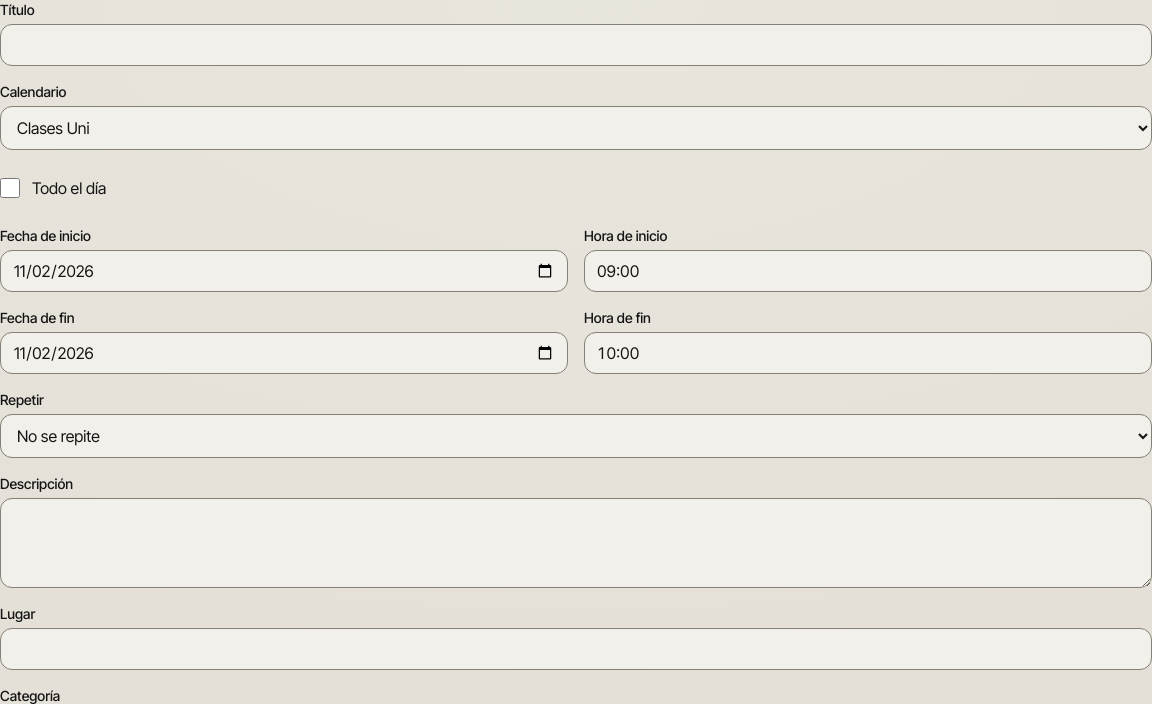
Scenario: EventForm: times (spec 008) › never moves the end past 23:59 (RF-30)
This screenshot has width=1152, height=704.
Click the dropdown labelled "Hora de inicio" at (868, 271), box [584,250,1151,292]
(page scrolled)
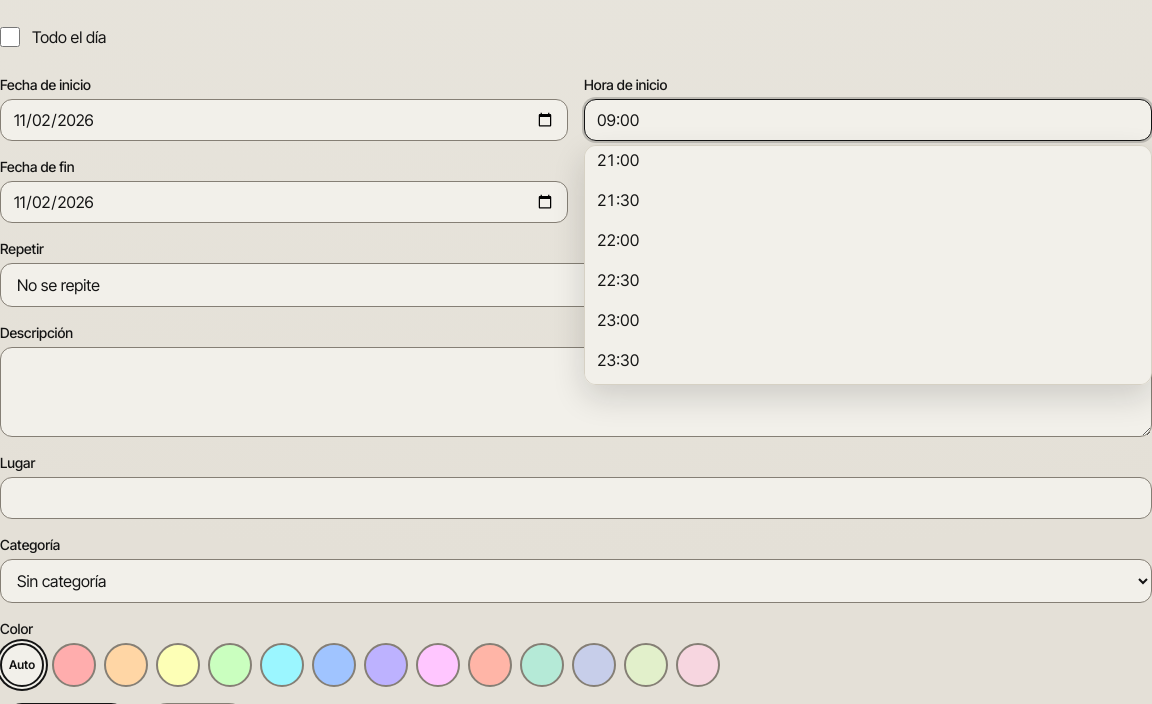
Click the option "23:30" at (618, 360), box [597,350,639,370]
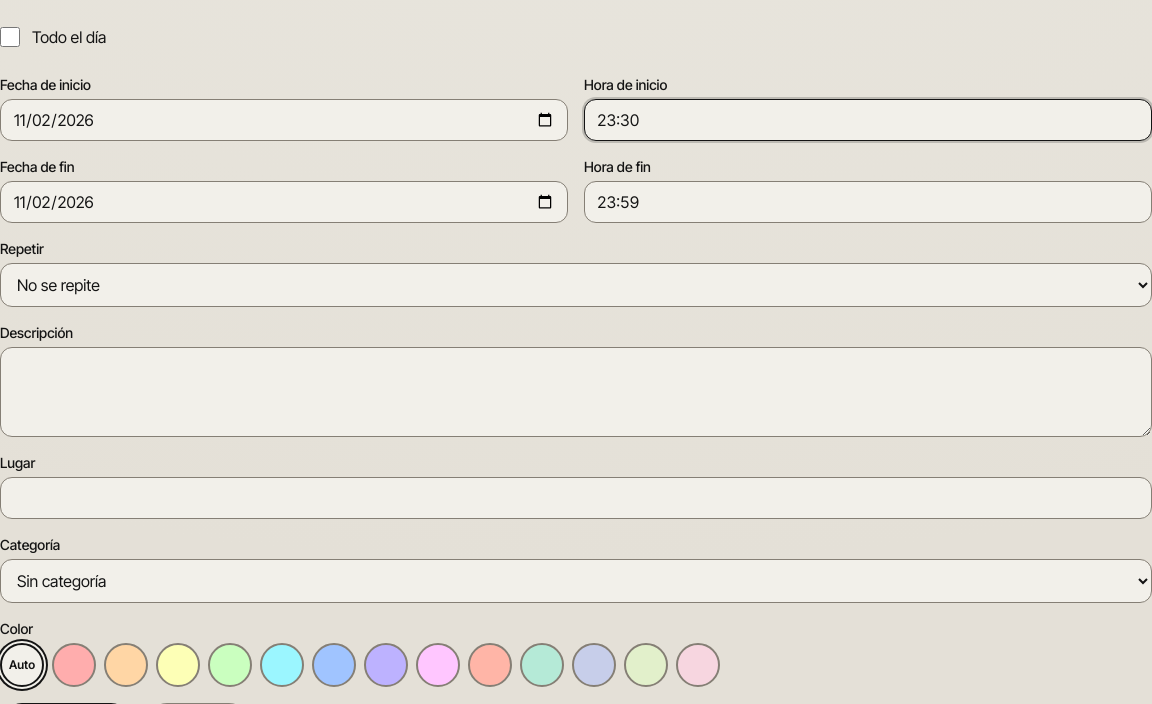
Now the dropdown labelled "Hora de fin" holds "23:59", box [584,181,1151,223]
